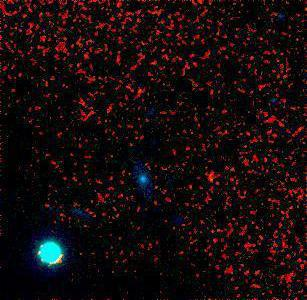star: (114, 160, 144, 190)
